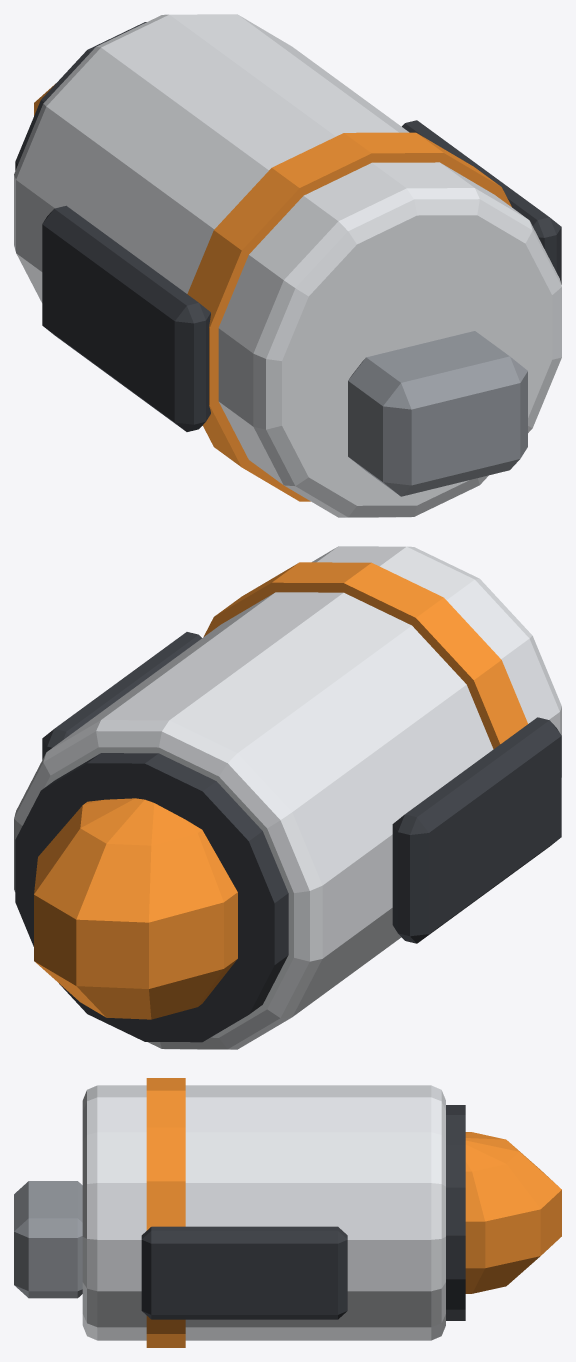
Rendered from tsar_launcher.glb.
The picture shows the model from 3 angles, top to bottom: view 1: azimuth 30°, elevation 25°; view 2: azimuth 150°, elevation 25°; view 3: azimuth 270°, elevation 25°; orthographic projection. The views are drawn at different scales.
Visible parts, largest first — view 1: tsar_launcher; view 2: tsar_launcher; view 3: tsar_launcher.
Part boxes in pixels (left/top/right/bottom): tsar_launcher: left=14, top=14, right=561, bottom=517; tsar_launcher: left=14, top=546, right=561, bottom=1049; tsar_launcher: left=14, top=1078, right=561, bottom=1347.
Size of the model in its own units: 0.64 by 0.55 by 1.12.
